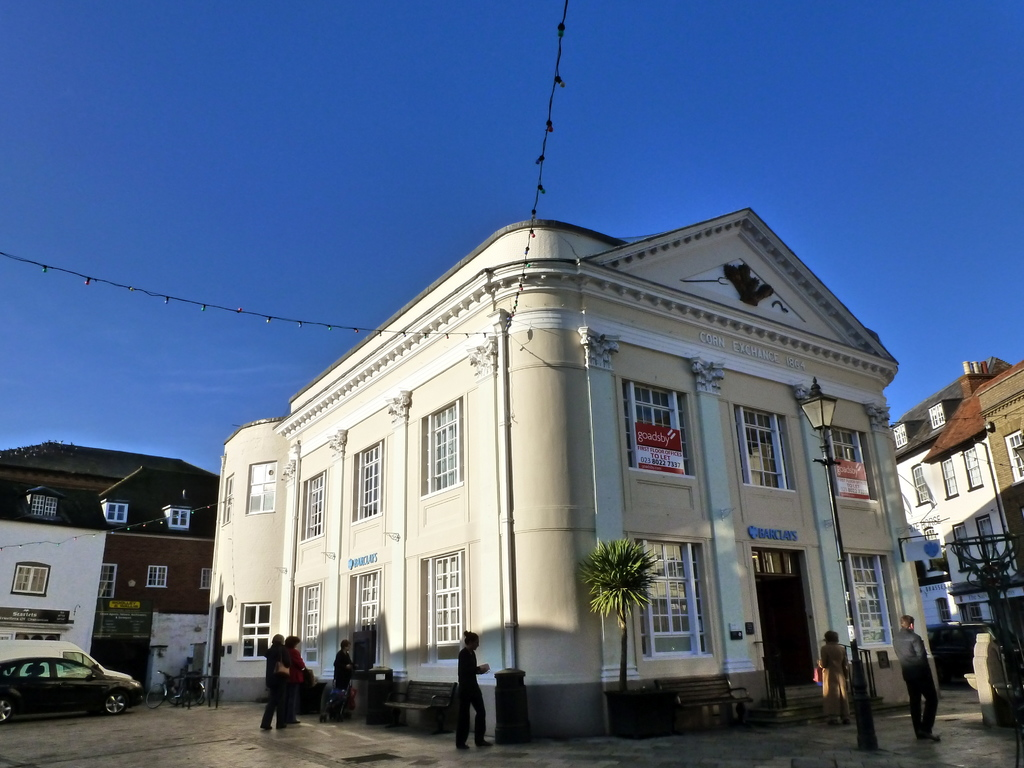Car: (0, 654, 139, 722), (0, 636, 142, 685), (930, 616, 995, 682)
